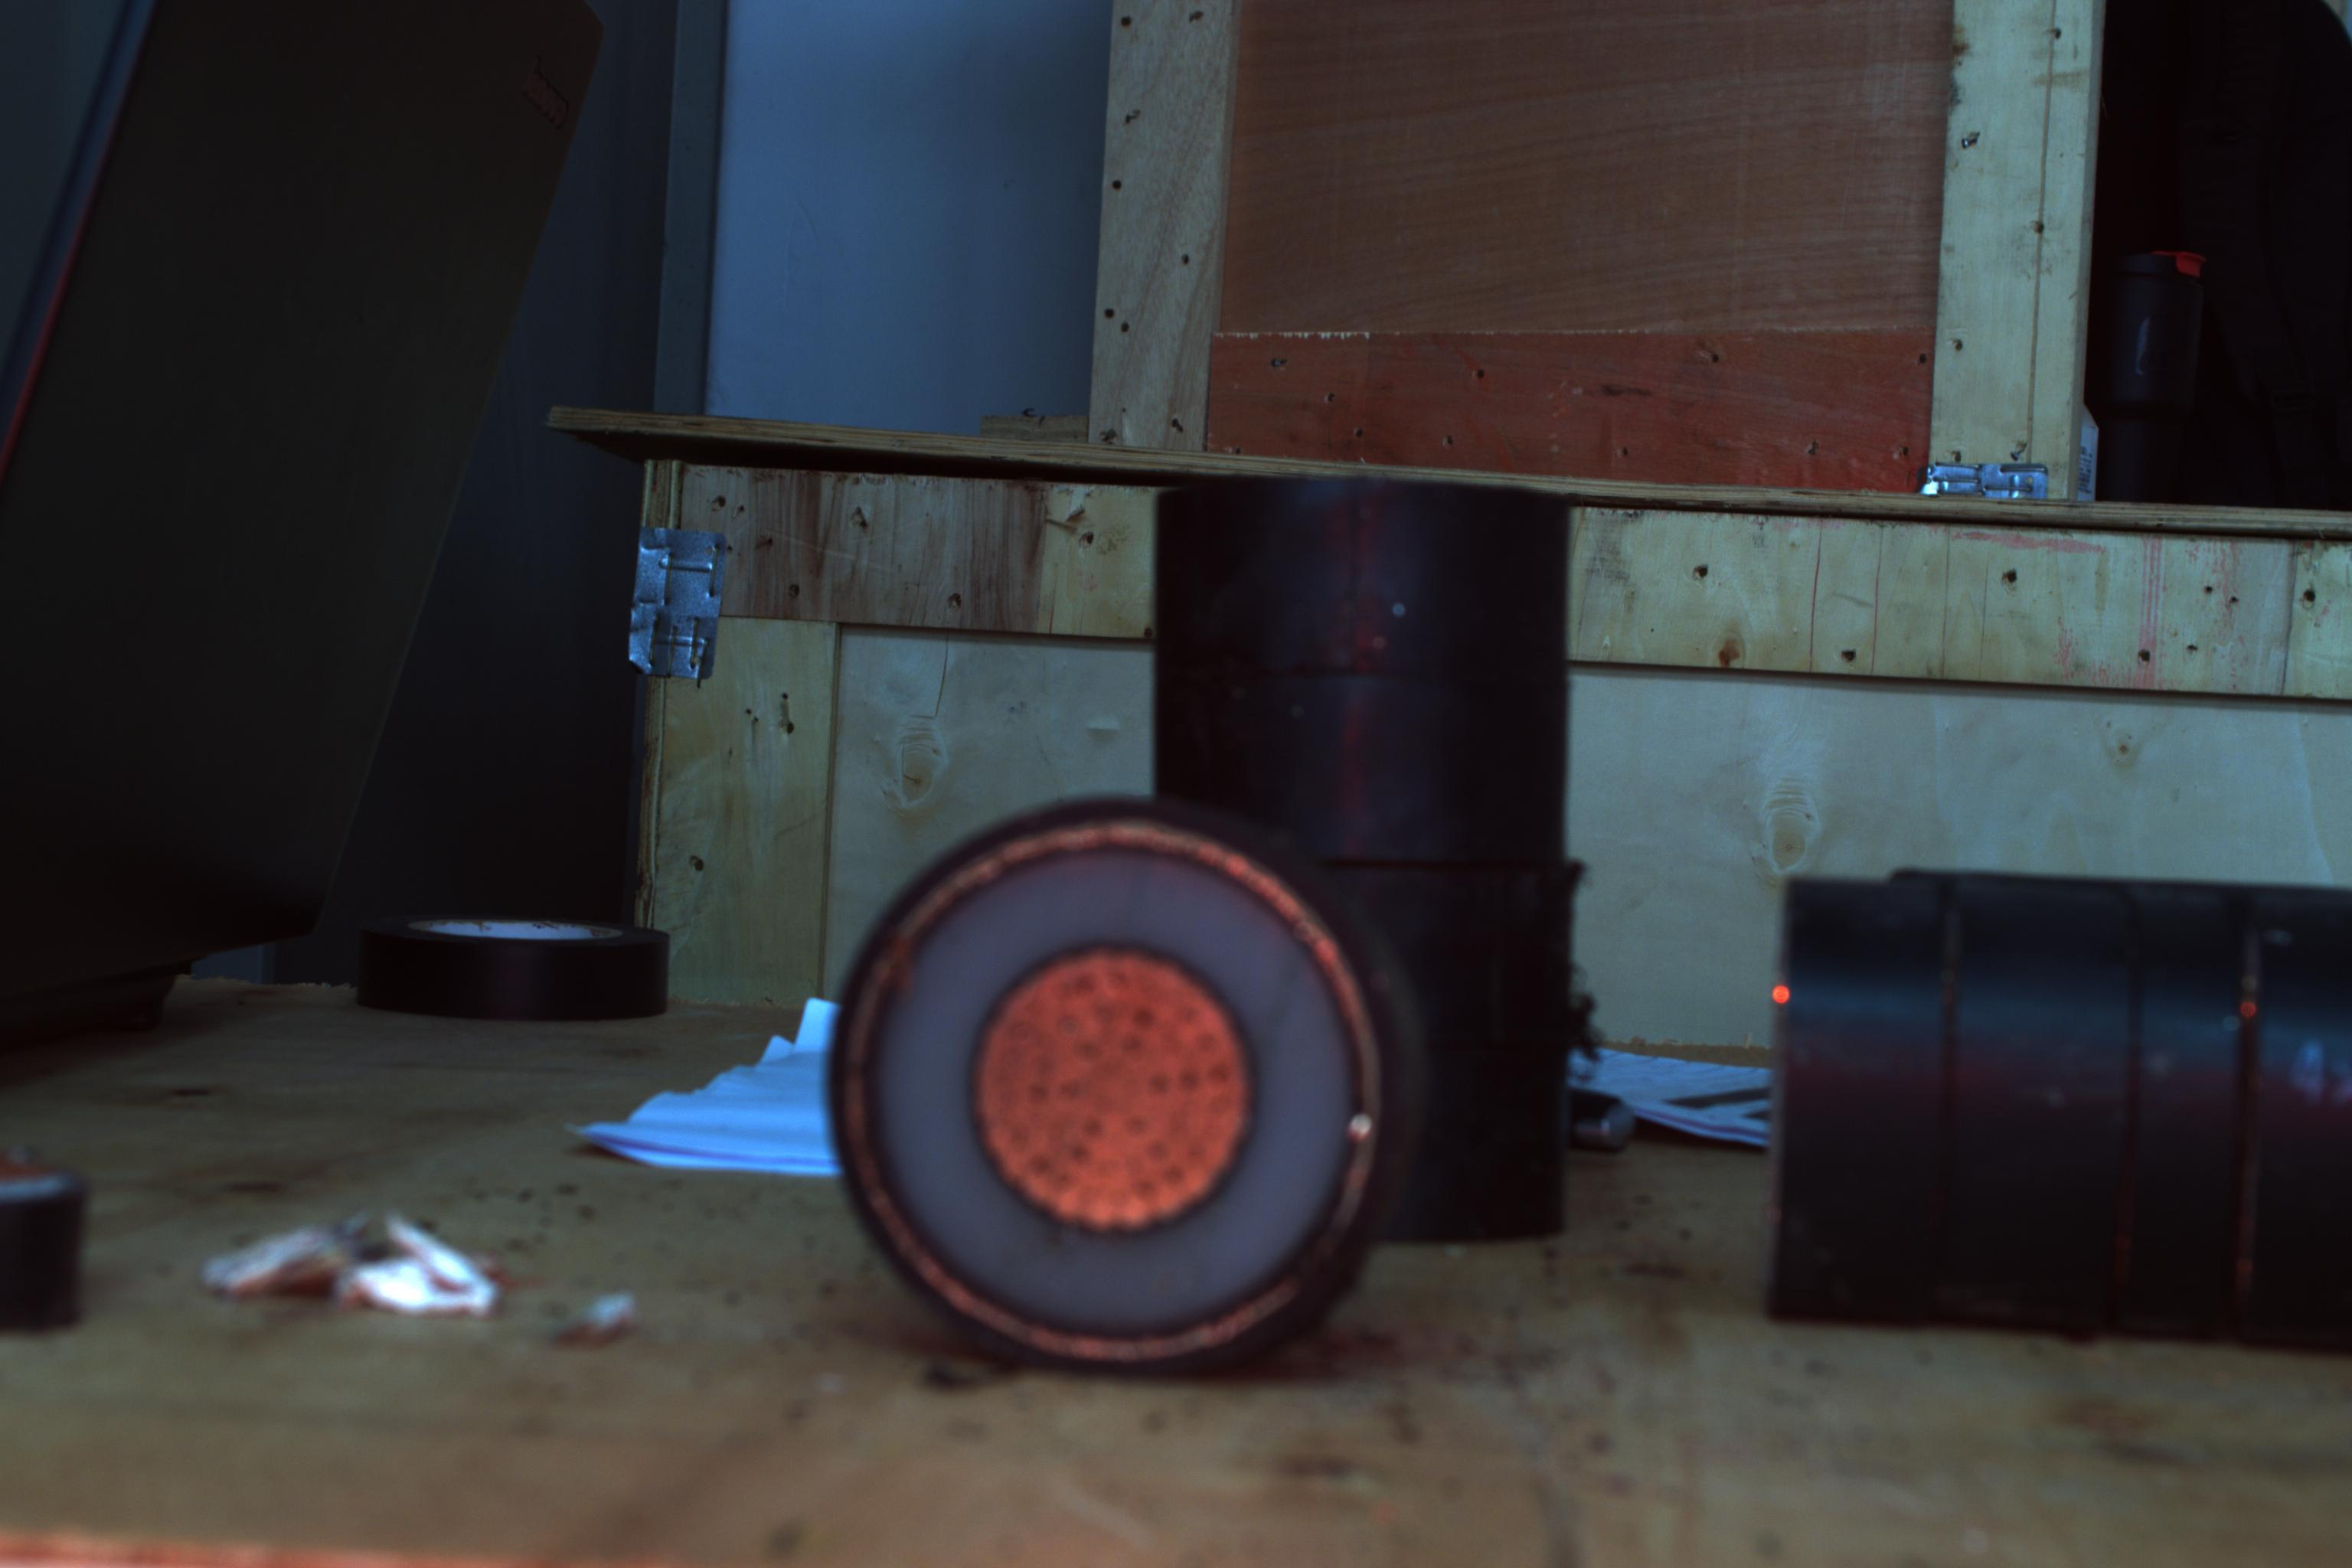YJV_26_35kV_1x630: (831, 796, 1388, 1370)
